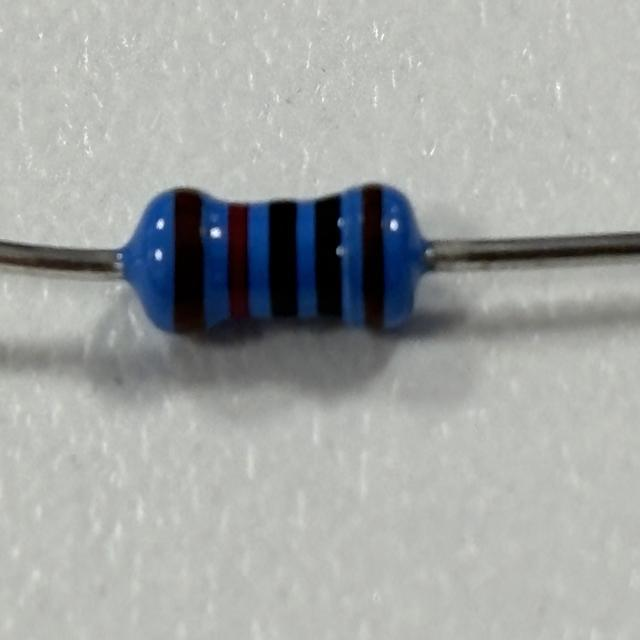resistor: (136, 176, 425, 349)
